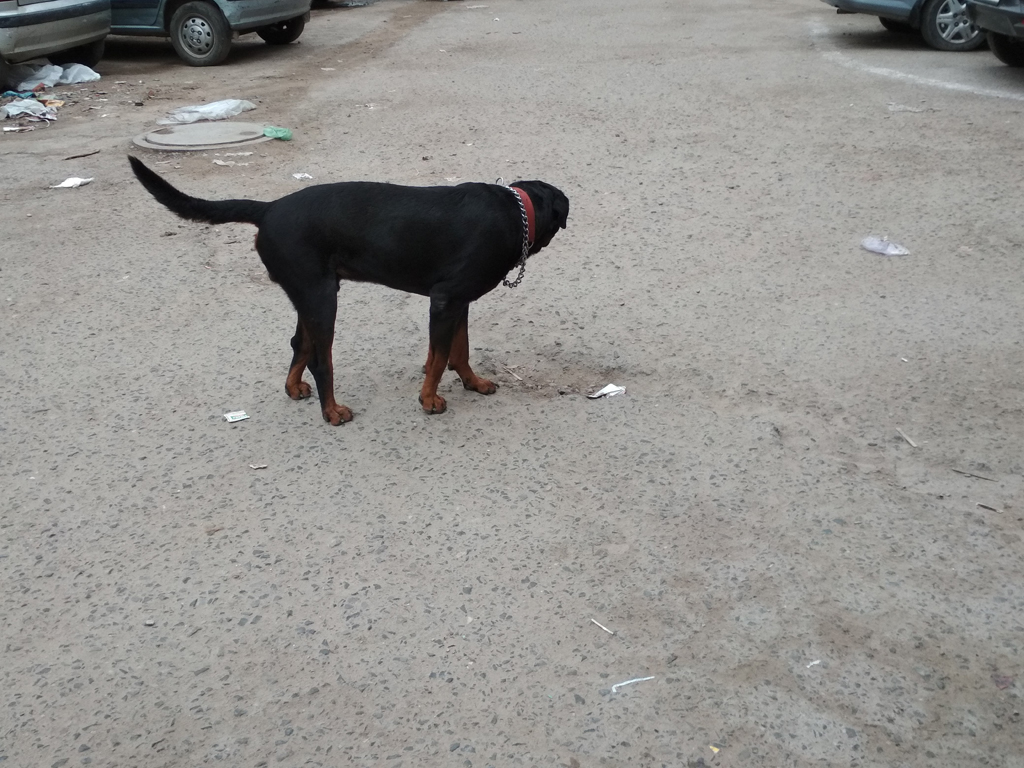dog: (129, 159, 570, 425)
